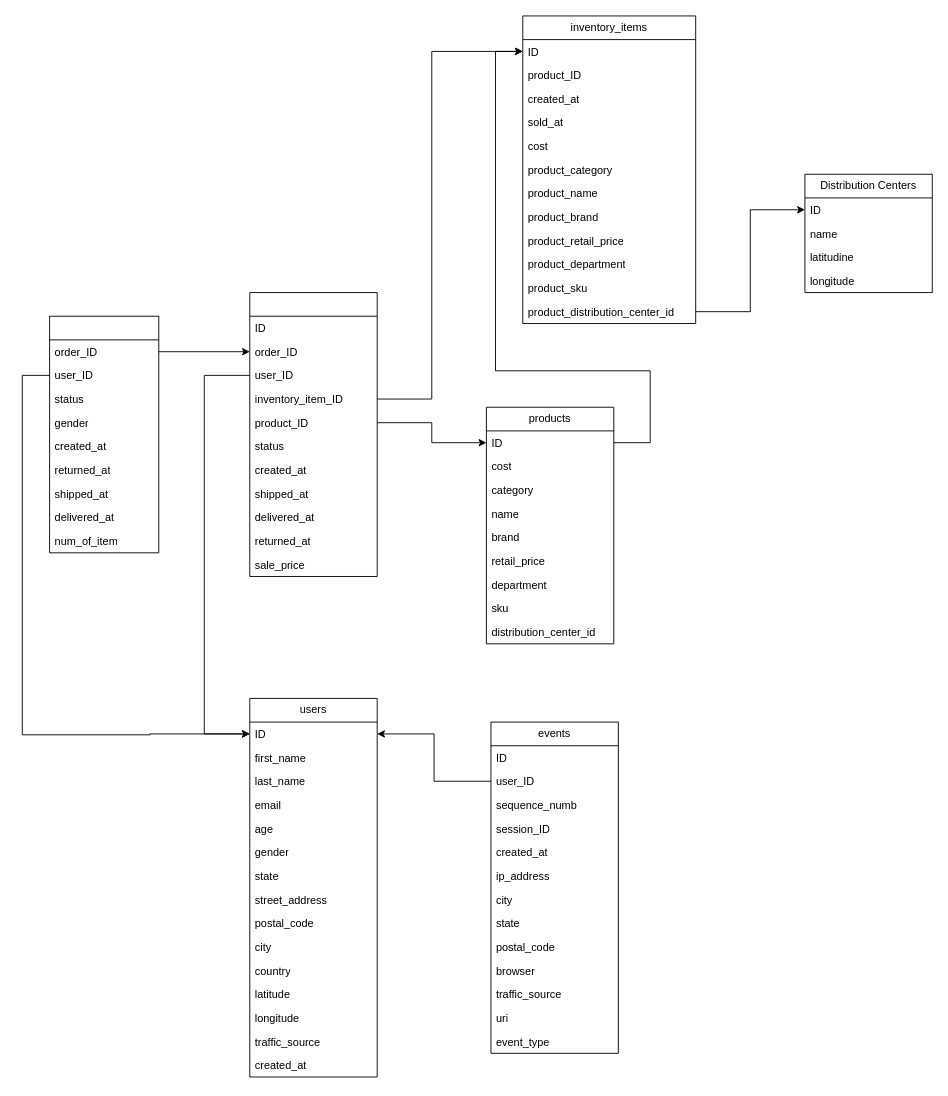
Image size: 948x1096. Some labels were removed from this diagram. Each missing label, with the box of its shape:
order_items: (249, 292, 377, 576)
orders: (49, 315, 159, 553)
